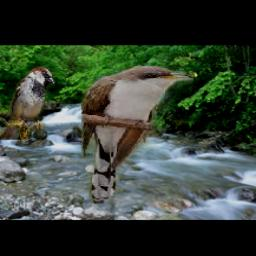Cuckoo: (80, 66, 192, 204)
Sparrow: (0, 66, 54, 140)
